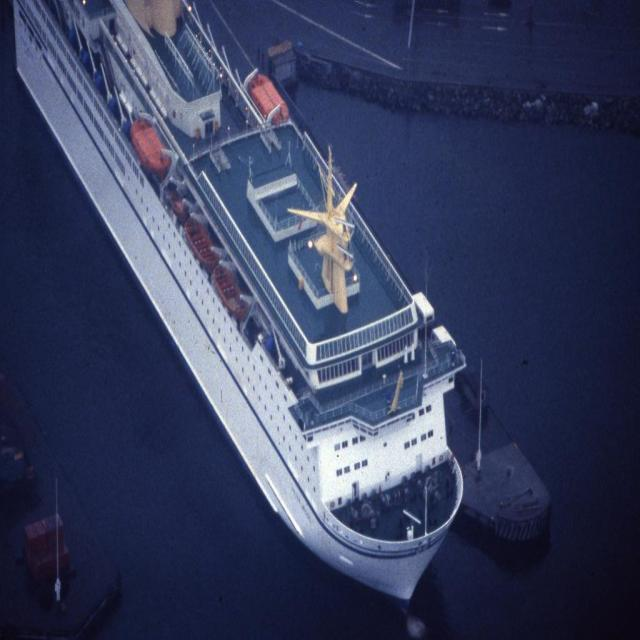Boat: (12, 0, 467, 615)
